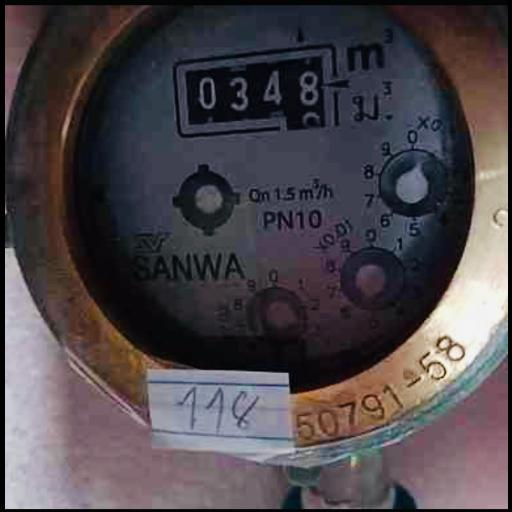0: (184, 68, 227, 126)
3: (223, 64, 260, 123)
4: (255, 60, 286, 120)
8: (282, 56, 327, 131)
border_water_meter_number: (170, 43, 342, 139)
